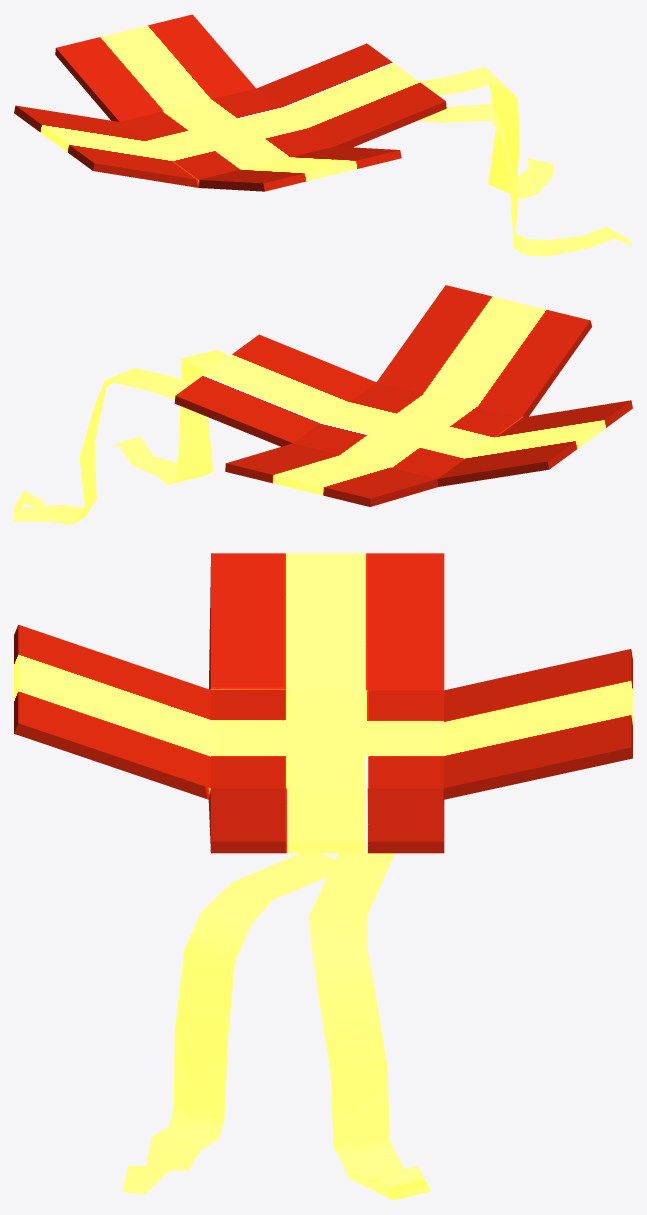
File: PresentOpen01_Art.fbx
The picture shows the model from 3 angles, top to bottom: view 1: azimuth 30°, elevation 25°; view 2: azimuth 150°, elevation 25°; view 3: azimuth 270°, elevation 25°; orthographic projection. The views are drawn at different scales.
Parts seen in each view (by area): view 1: PresentOpen01_Art; view 2: PresentOpen01_Art; view 3: PresentOpen01_Art.
Part boxes in pixels (left/top/right/bottom): PresentOpen01_Art: left=14, top=14, right=632, bottom=256; PresentOpen01_Art: left=14, top=285, right=632, bottom=524; PresentOpen01_Art: left=14, top=553, right=632, bottom=1200.
Bounding box in the file's own units: 3.22 × 1.1 × 2.24.
